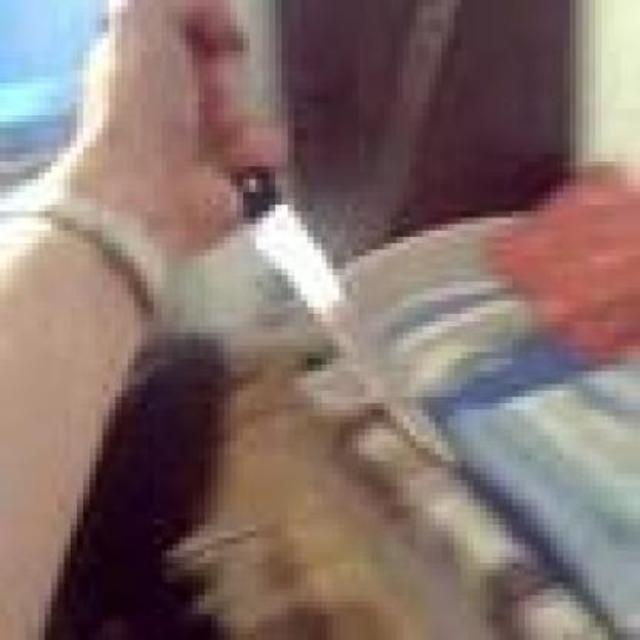Knife: (242, 178, 458, 474)
